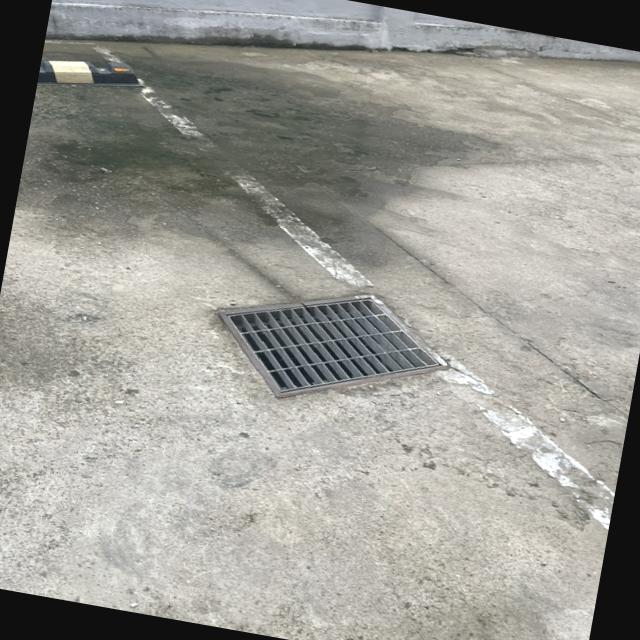drain_area: (226, 298, 442, 391)
drain_full: (229, 297, 440, 393)
